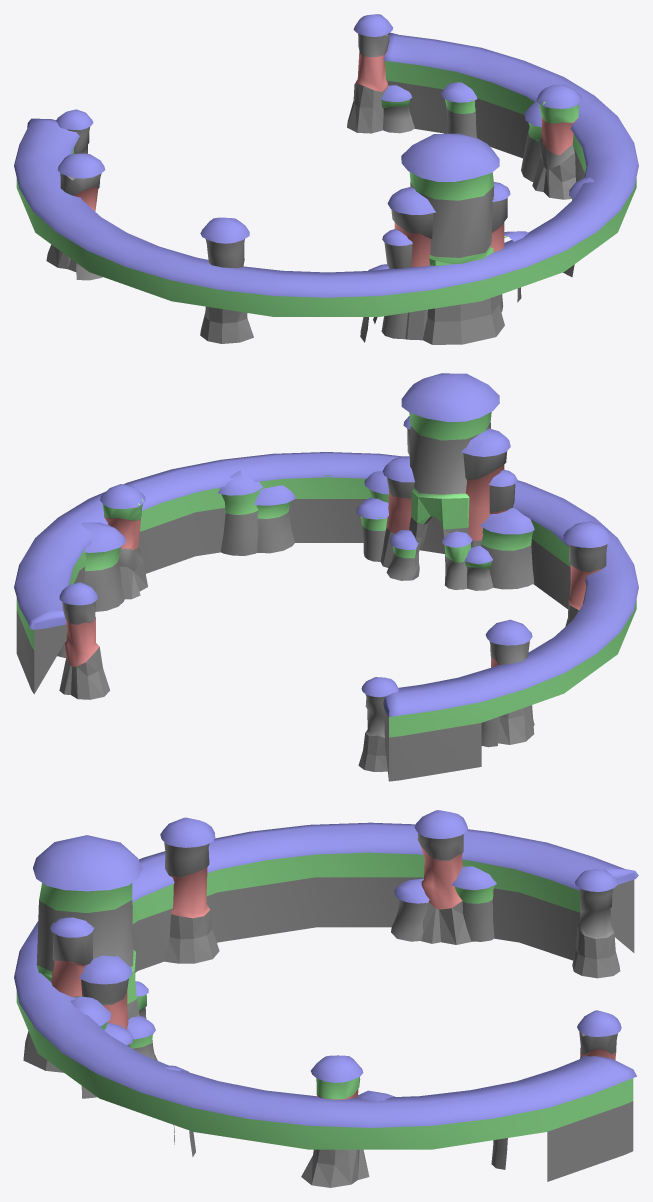
The model's file is PriMT_Boss001.gltf.
3 renders of one model, top to bottom at view 1: azimuth 30°, elevation 25°; view 2: azimuth 150°, elevation 25°; view 3: azimuth 270°, elevation 25°, orthographic. The views are drawn at different scales.
Visible parts, largest first — view 1: PriMT_Boss001; view 2: PriMT_Boss001; view 3: PriMT_Boss001.
Boxes of the visible parts, box(x1,y1,x2,y2) form: PriMT_Boss001: box(14, 14, 638, 344); PriMT_Boss001: box(14, 373, 638, 781); PriMT_Boss001: box(14, 810, 638, 1187).
Size of the model in its own units: 35.18 by 11.48 by 30.84.
